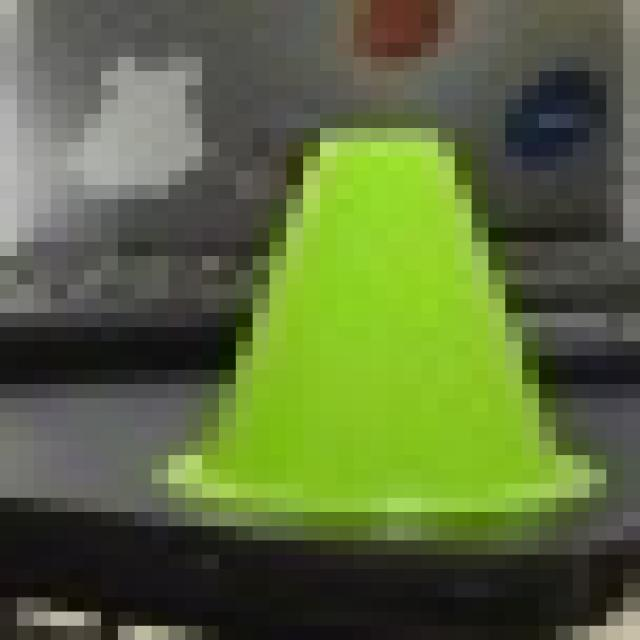cono: (135, 114, 606, 526)
